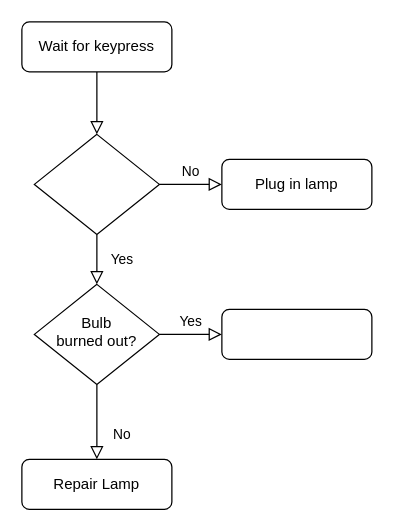
The diagram is 394 pixels wide and 531 high, and some of its shapes have lost their labels. Each missing label, with the centre of its shape:
"Lamp plugged in?" belongs at pixel 96 183.
"Replace Bulb" belongs at pixel 296 333.
